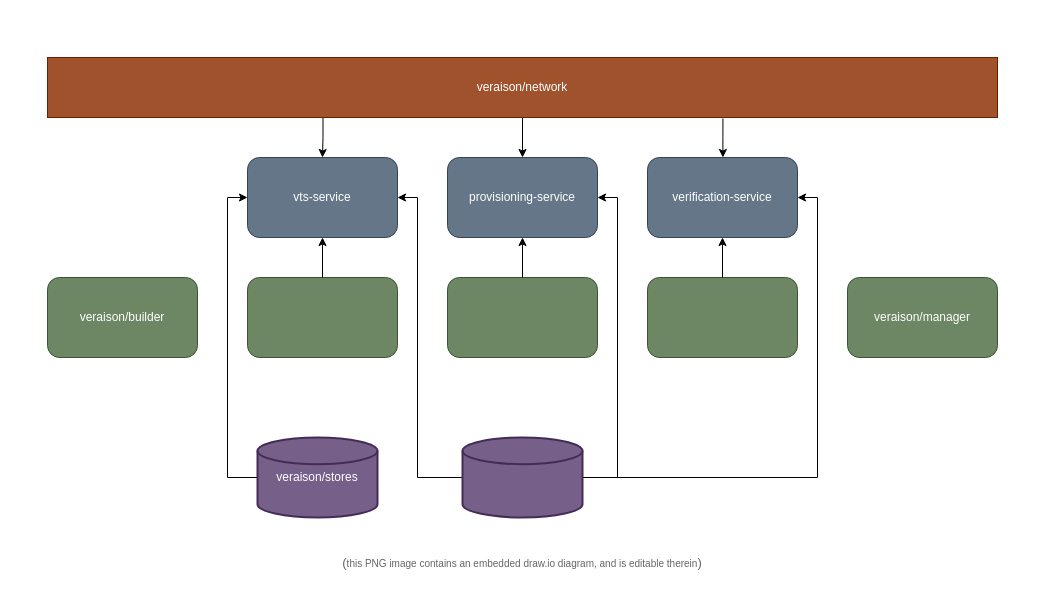
This 1044x594 diagram has some shape labels left out. Each missing label, with the centre of its shape:
veraison/logs: point 522,477
veraison/provisioning: point 522,317
veraison/verification: point 722,317
veraison/vts: point 322,317
